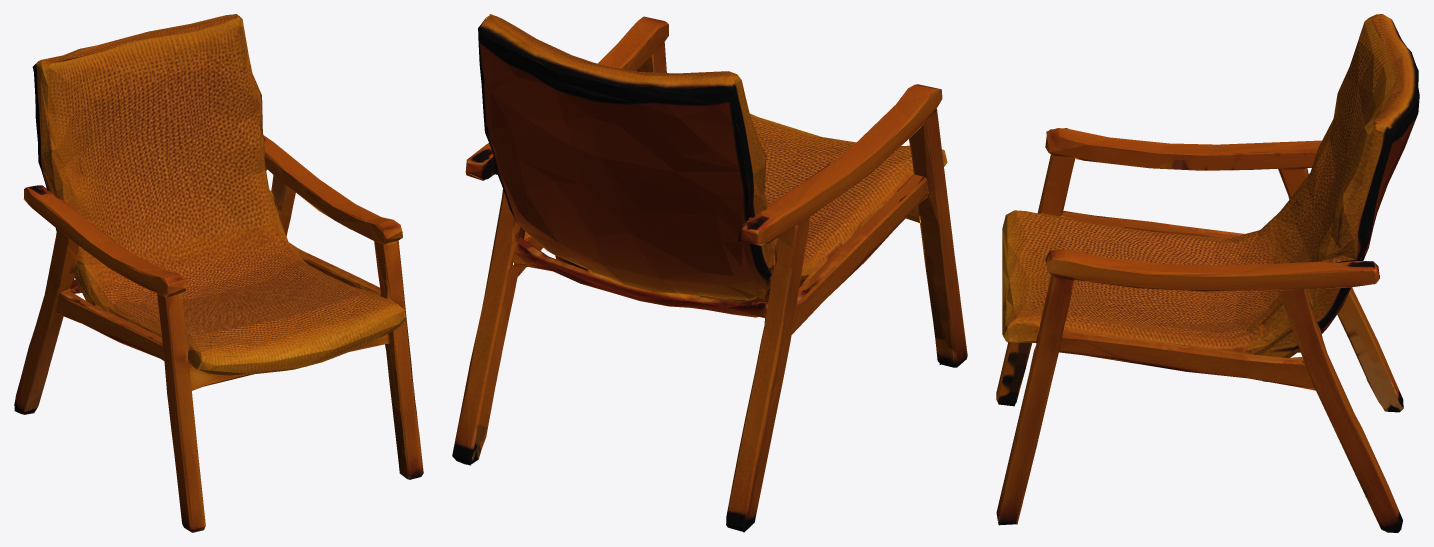
The model's file is chair-hy3d.glb.
3 renders of one model, left to right at view 1: azimuth 30°, elevation 25°; view 2: azimuth 150°, elevation 25°; view 3: azimuth 270°, elevation 25°, orthographic. The views are drawn at different scales.
Parts seen in each view (by area): view 1: temp_mesh.ply; view 2: temp_mesh.ply; view 3: temp_mesh.ply.
Part boxes in pixels (box(x1,y1,x2,y2)): temp_mesh.ply: box(14, 14, 423, 532); temp_mesh.ply: box(452, 14, 967, 532); temp_mesh.ply: box(996, 14, 1419, 532).
Bounding box in the file's own units: 1.4 × 1.99 × 1.9.
1 material, 1 textured.
